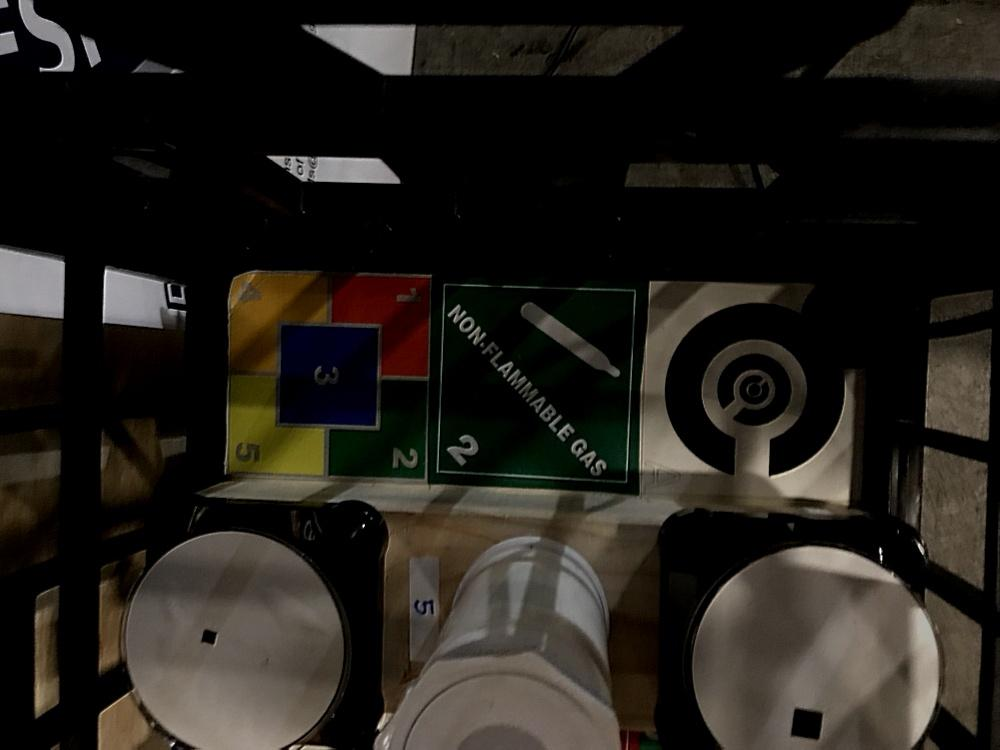non-flammable-gas: (432, 279, 647, 499)
